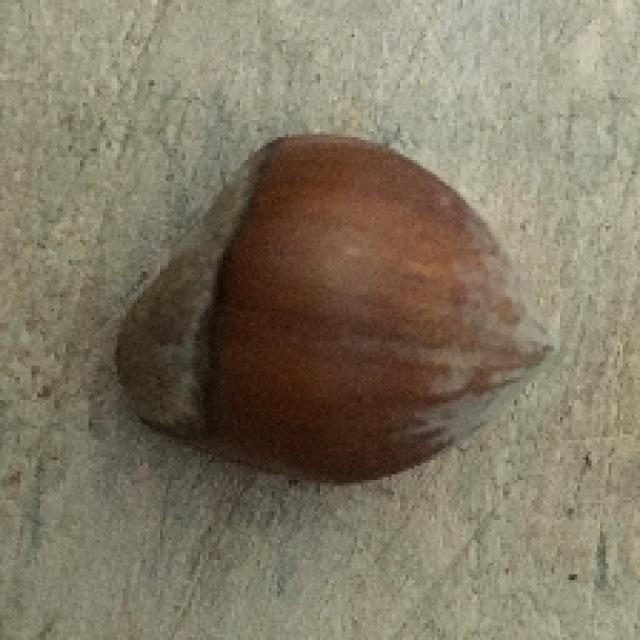damagedHazelnut: (108, 126, 565, 494)
